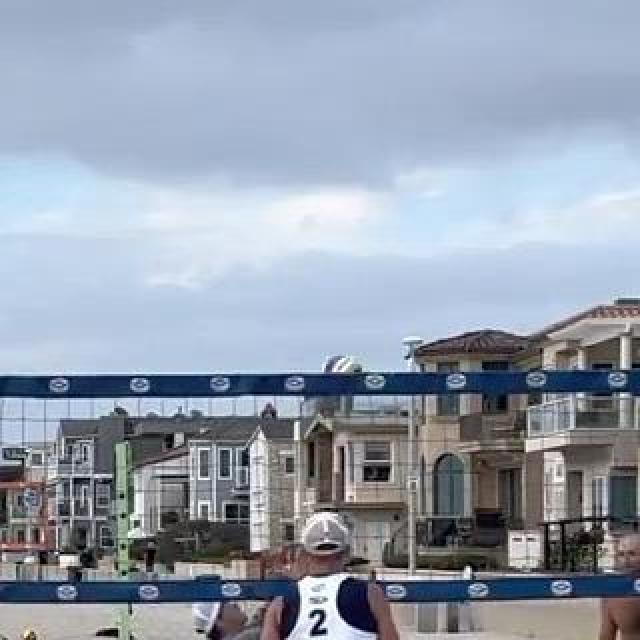volleyball: (322, 353, 364, 393), (23, 630, 39, 640)
